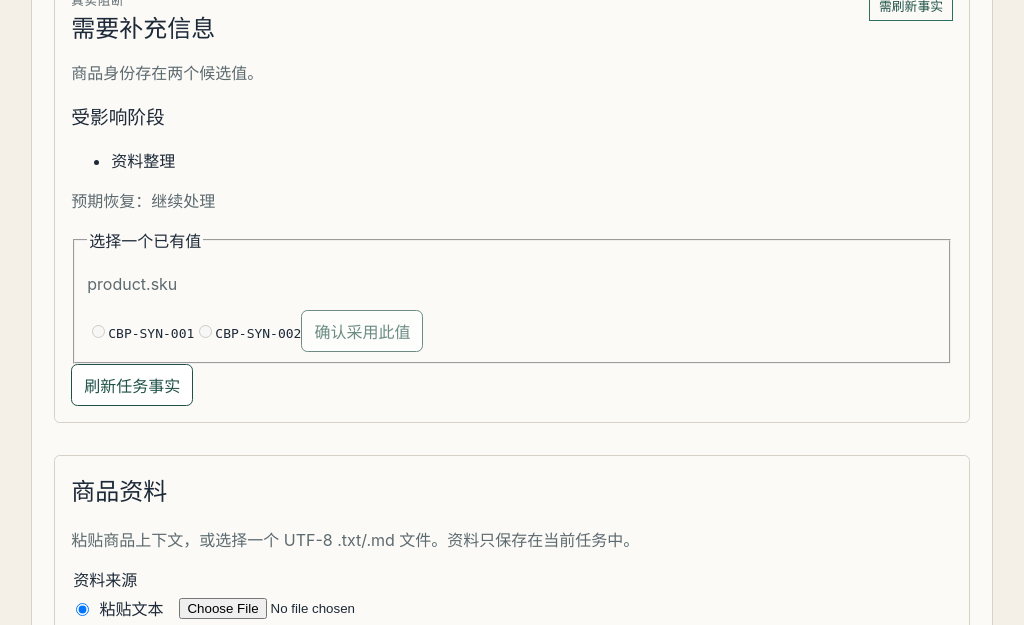
TaskRoutes › blocks a fetched request whose identity or revision disagrees with the Task Overview
(page scrolled)
expect the button "确认采用此值" is disabled: met, box [301, 310, 423, 352]
Click the button "刷新任务事实" at (132, 385), box [71, 364, 193, 406]
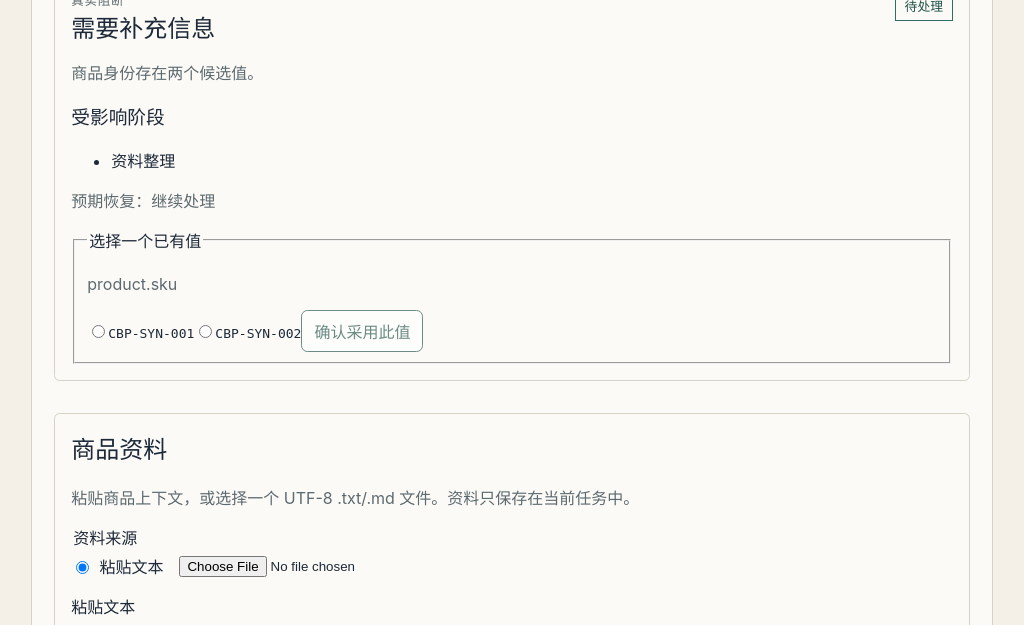
expect the radio button labelled "CBP-SYN-001" is enabled: met
Click the radio button labelled "CBP-SYN-001" at (99, 331), box [92, 325, 105, 338]
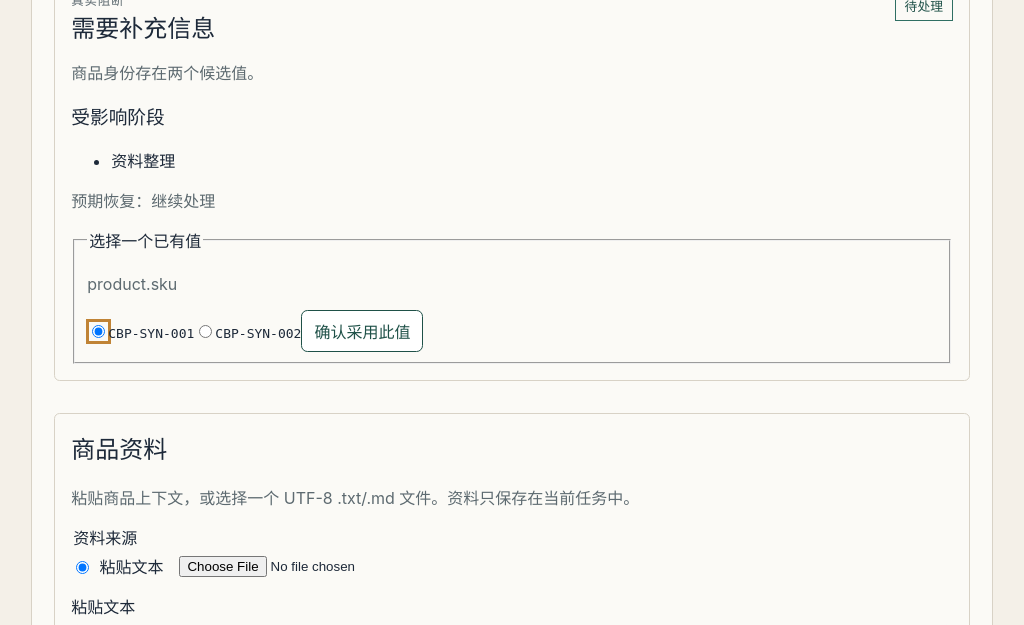
expect the button "确认采用此值" is enabled: met, box [301, 310, 423, 352]
